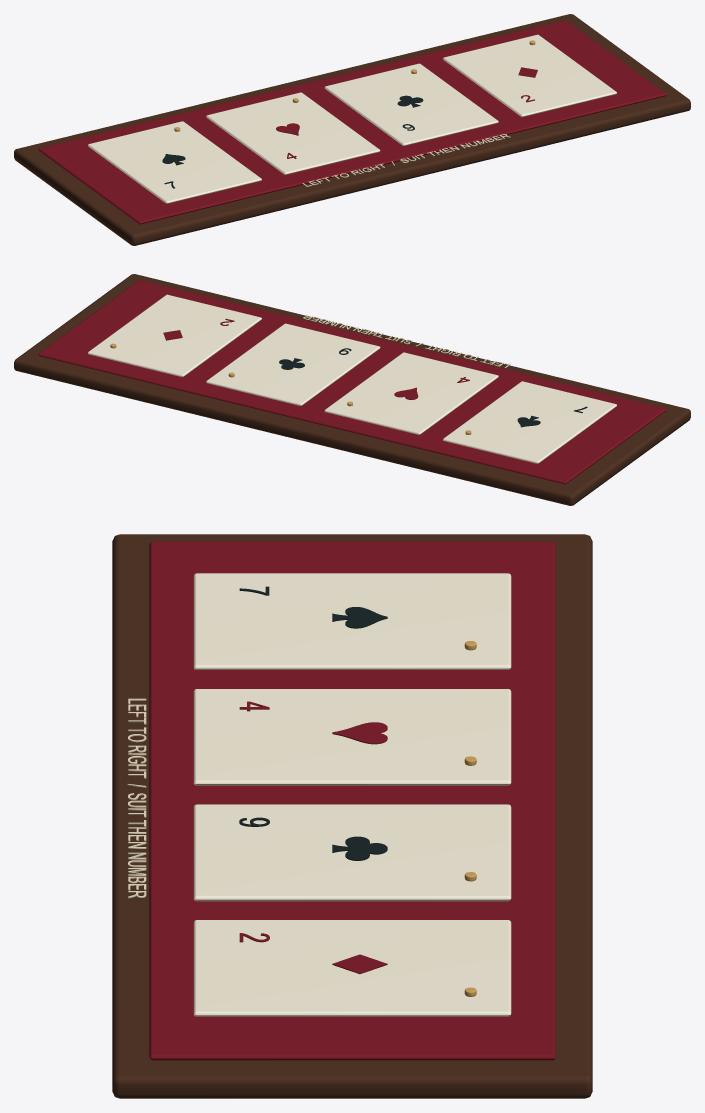
File: crooked-cards.glb
The picture shows the model from 3 angles, top to bottom: view 1: azimuth 30°, elevation 25°; view 2: azimuth 150°, elevation 25°; view 3: azimuth 270°, elevation 25°; orthographic projection. The views are drawn at different scales.
Visible parts, largest first — view 1: Velvet insert, Battered evidence tray, Fixed card 2♦, Fixed card 7♠, Fixed card 4♥, Fixed card 9♣, Clue inscription; view 2: Velvet insert, Battered evidence tray, Fixed card 2♦, Fixed card 7♠, Fixed card 4♥, Fixed card 9♣, Clue inscription; view 3: Velvet insert, Battered evidence tray, Fixed card 9♣, Fixed card 2♦, Fixed card 7♠, Fixed card 4♥, Clue inscription, Card suit ♣.
Part boxes in pixels (box(x1,y1,x2,y2)): Velvet insert: box(38, 20, 666, 224); Battered evidence tray: box(14, 14, 690, 245); Fixed card 2♦: box(443, 34, 616, 117); Fixed card 7♠: box(88, 121, 261, 203); Fixed card 4♥: box(206, 92, 380, 174); Fixed card 9♣: box(324, 63, 498, 145); Clue inscription: box(302, 134, 510, 186); Velvet insert: box(38, 280, 666, 484); Battered evidence tray: box(14, 274, 690, 505); Fixed card 2♦: box(88, 294, 261, 377); Fixed card 7♠: box(443, 381, 616, 463); Fixed card 4♥: box(324, 352, 498, 434); Fixed card 9♣: box(206, 323, 380, 405); Clue inscription: box(303, 315, 510, 367); Velvet insert: box(149, 541, 555, 1060); Battered evidence tray: box(112, 534, 592, 1098); Fixed card 9♣: box(193, 804, 511, 901); Fixed card 2♦: box(193, 920, 511, 1016); Fixed card 7♠: box(193, 573, 511, 669); Fixed card 4♥: box(193, 689, 511, 785); Clue inscription: box(127, 698, 146, 898); Card suit ♣: box(332, 836, 387, 860).
Bounding box in the file's own units: 1.75 × 0.0645 × 0.65.
